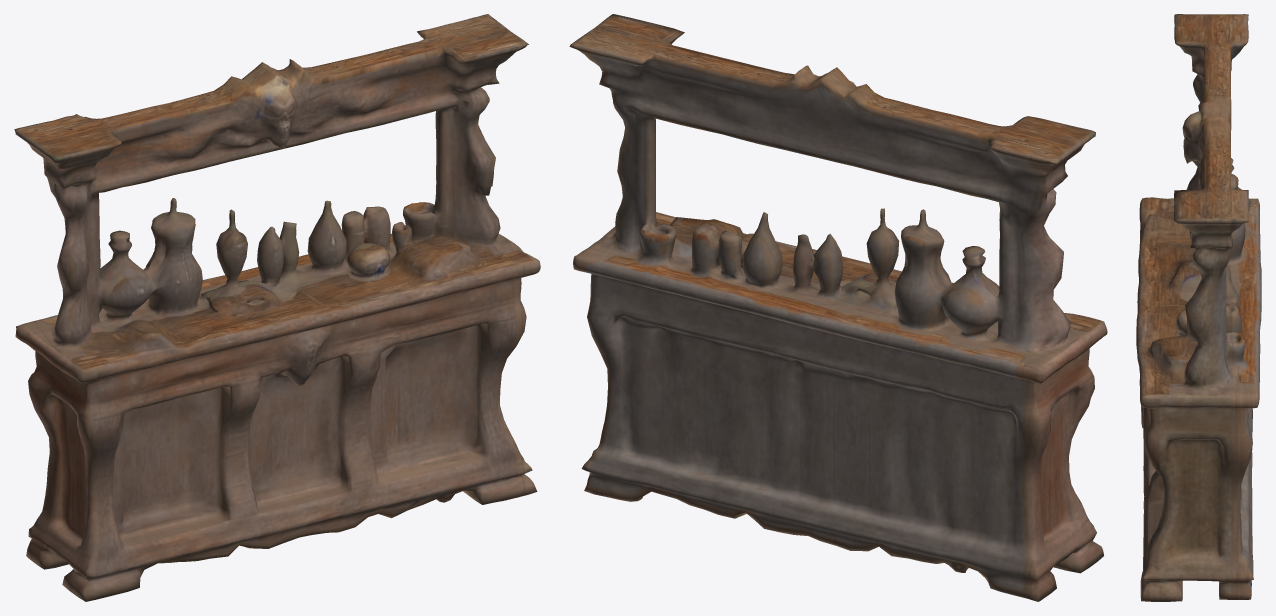
The model's file is Horror_and_creepy_ver_0124152959_stylize.fbx.
3 renders of one model, left to right at view 1: azimuth 30°, elevation 25°; view 2: azimuth 150°, elevation 25°; view 3: azimuth 270°, elevation 25°, orthographic. The views are drawn at different scales.
Visible parts, largest first — view 1: Mesh_0.004; view 2: Mesh_0.004; view 3: Mesh_0.004.
Boxes of the visible parts, x1,y1,x2,y2 form: Mesh_0.004: (14,14,540,601); Mesh_0.004: (569,14,1107,601); Mesh_0.004: (1136,14,1261,601).
Size of the model in its own units: 200 by 181 by 51.21.
1 material, 1 textured.
